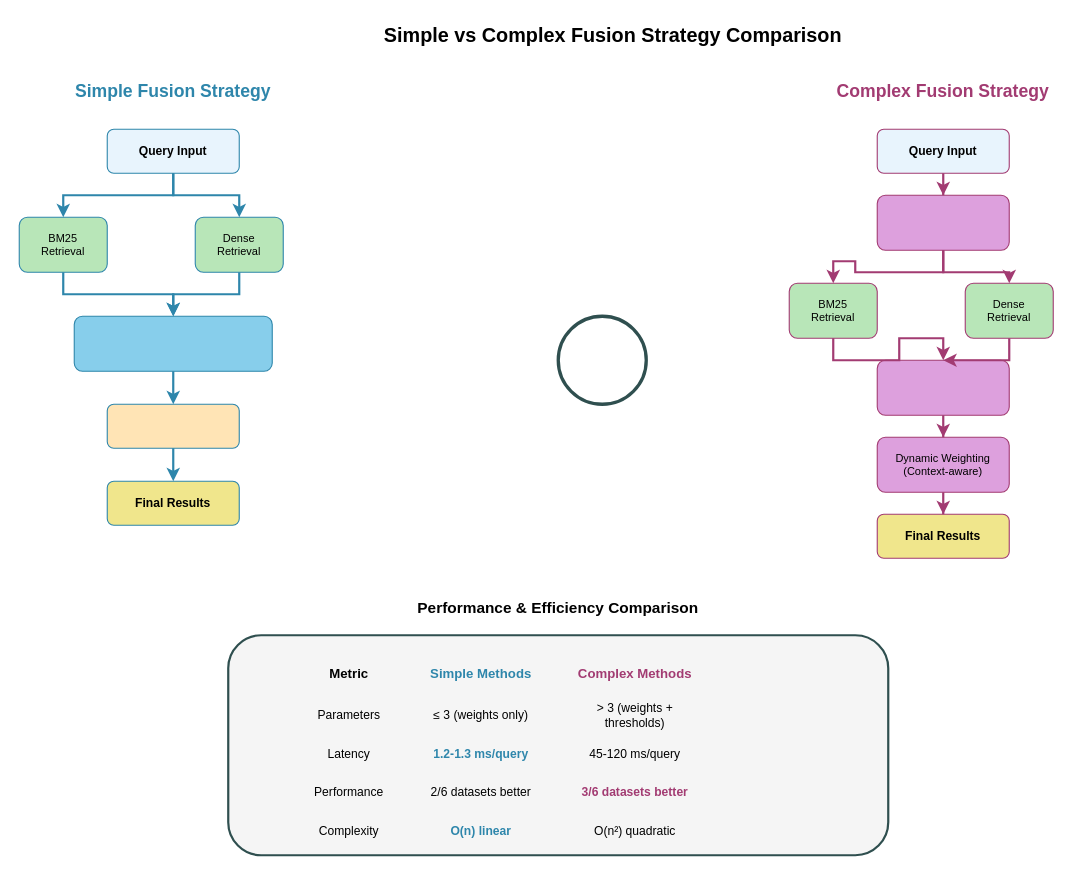
Some shapes in this 1073 by 875 pixel diagram are drawn without their labels. The centre of each missing label's shape, as x and y in pixels:
"Adaptive Routing (Strategy Selection)" goes at point 942,387.
"Linear Combination Score = w₁×S₁ + w₂×S₂" goes at point 172,343.
"Query Analysis (Type Classification)" goes at point 942,222.
"Rank by Score" goes at point 172,425.
"VS" goes at point 601,359.
